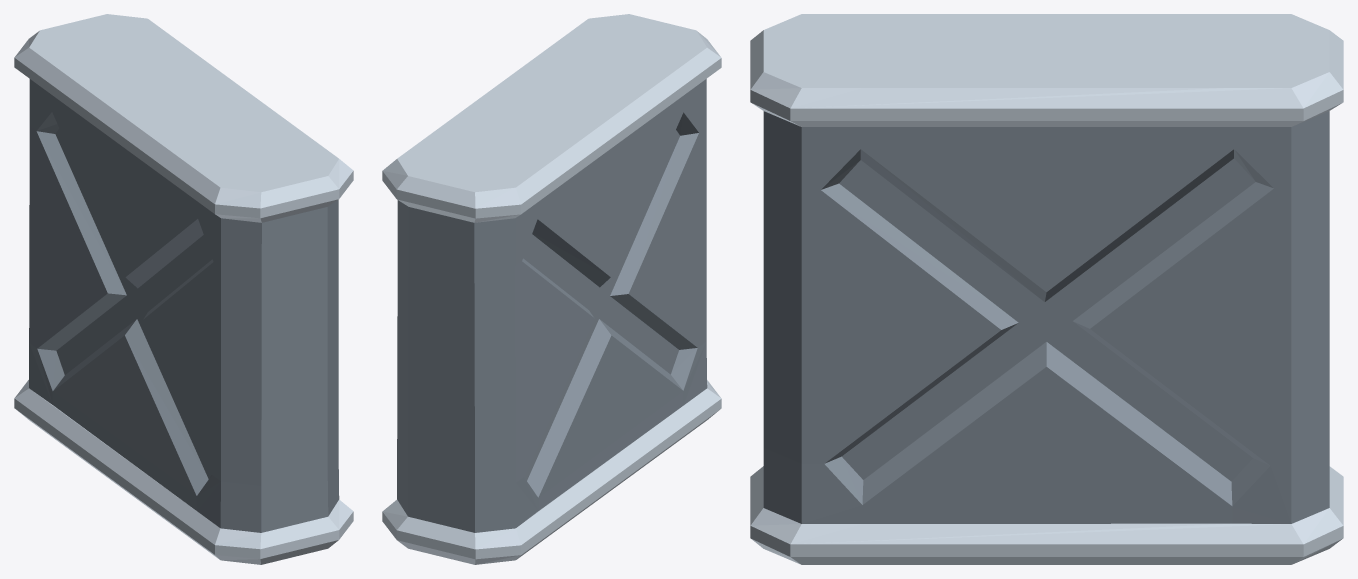
The model's file is kabe.FBX.
The picture shows the model from 3 angles, left to right: view 1: azimuth 30°, elevation 25°; view 2: azimuth 150°, elevation 25°; view 3: azimuth 270°, elevation 25°; orthographic projection. The views are drawn at different scales.
Parts seen in each view (by area): view 1: VIFS001, VIFS002; view 2: VIFS001, VIFS002; view 3: VIFS001, VIFS002.
Part boxes in pixels (left/top/right/bottom): VIFS001: left=29, top=79, right=339, bottom=532; VIFS002: left=14, top=14, right=353, bottom=564; VIFS001: left=397, top=79, right=707, bottom=532; VIFS002: left=382, top=14, right=721, bottom=564; VIFS001: left=763, top=111, right=1329, bottom=523; VIFS002: left=750, top=14, right=1343, bottom=564.
Size of the model in its own units: 0.688 by 1.77 by 1.99.
